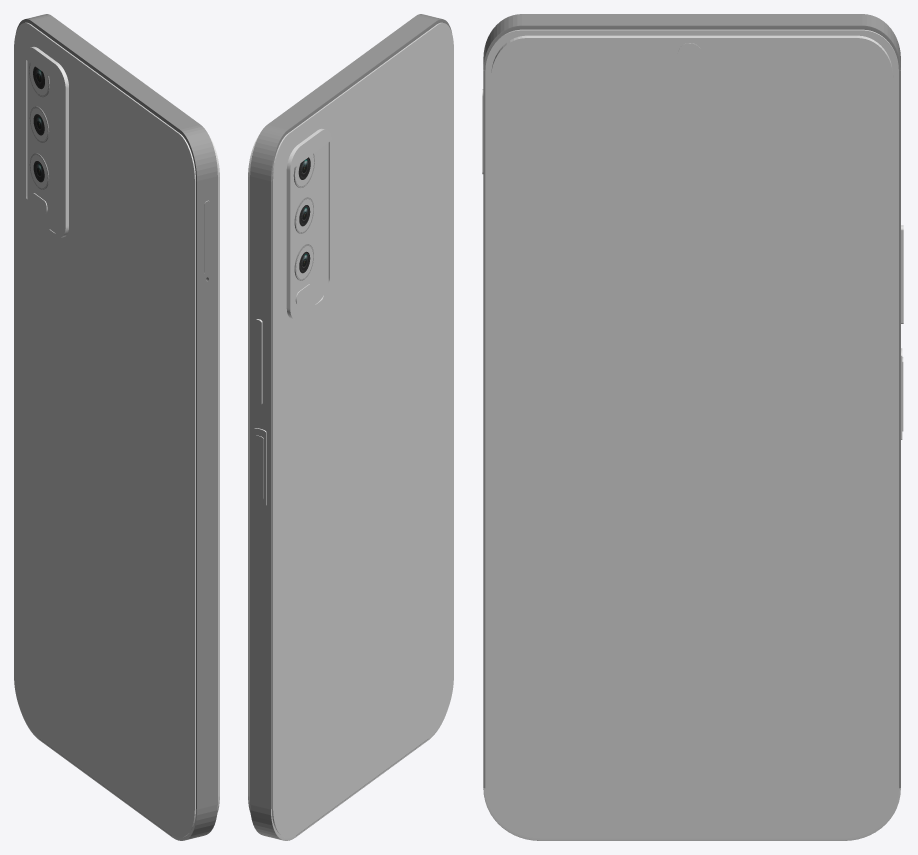
File: anjay.fbx
The picture shows the model from 3 angles, left to right: view 1: azimuth 30°, elevation 25°; view 2: azimuth 150°, elevation 25°; view 3: azimuth 270°, elevation 25°; orthographic projection. The views are drawn at different scales.
Parts seen in each view (by area): view 1: case, Cube.002, kamera; view 2: case, Cube.002, kamera; view 3: Cube.002.
Boxes of the visible parts, left/top/right/bottom form: case: left=14, top=23, right=194, bottom=837; Cube.002: left=16, top=14, right=219, bottom=840; kamera: left=33, top=66, right=44, bottom=182; case: left=273, top=23, right=453, bottom=837; Cube.002: left=248, top=14, right=451, bottom=840; kamera: left=298, top=157, right=310, bottom=273; Cube.002: left=482, top=14, right=903, bottom=840.
Bounding box in the file's own units: 391 × 8489 × 3973.
Materials: 8 (1 with a texture image).
